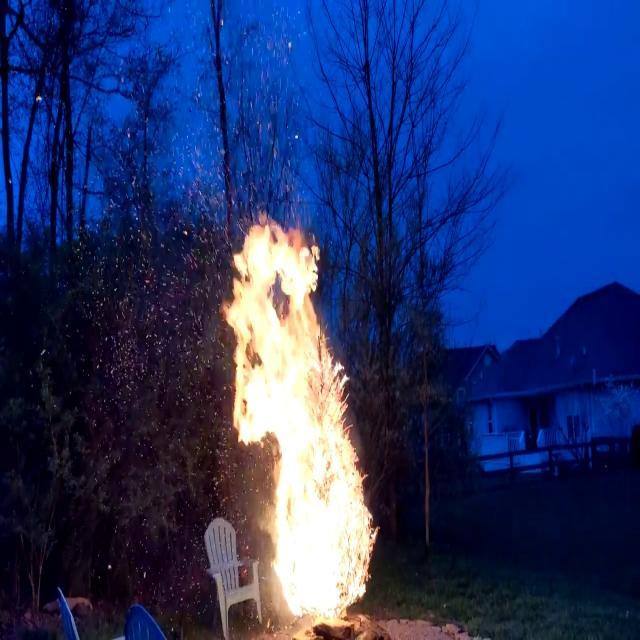Fire: (215, 212, 382, 624)
